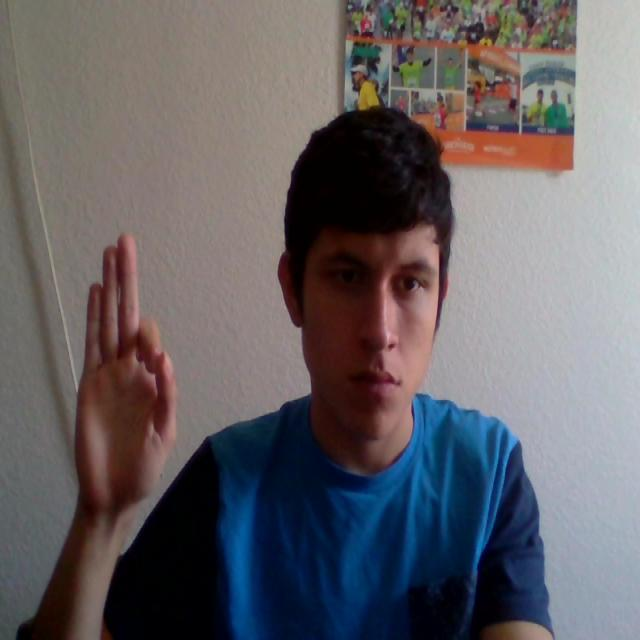F: (36, 216, 218, 512)
